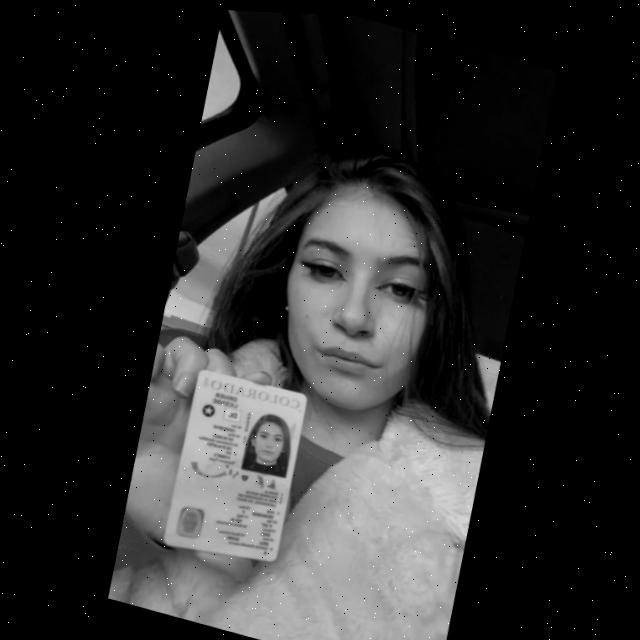card: (164, 371, 306, 561)
face: (252, 161, 466, 423)
